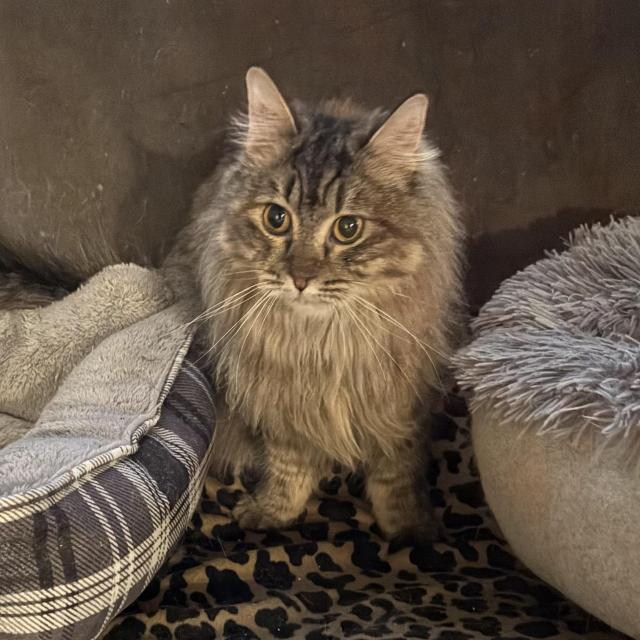persian_cat: (200, 55, 456, 362)
